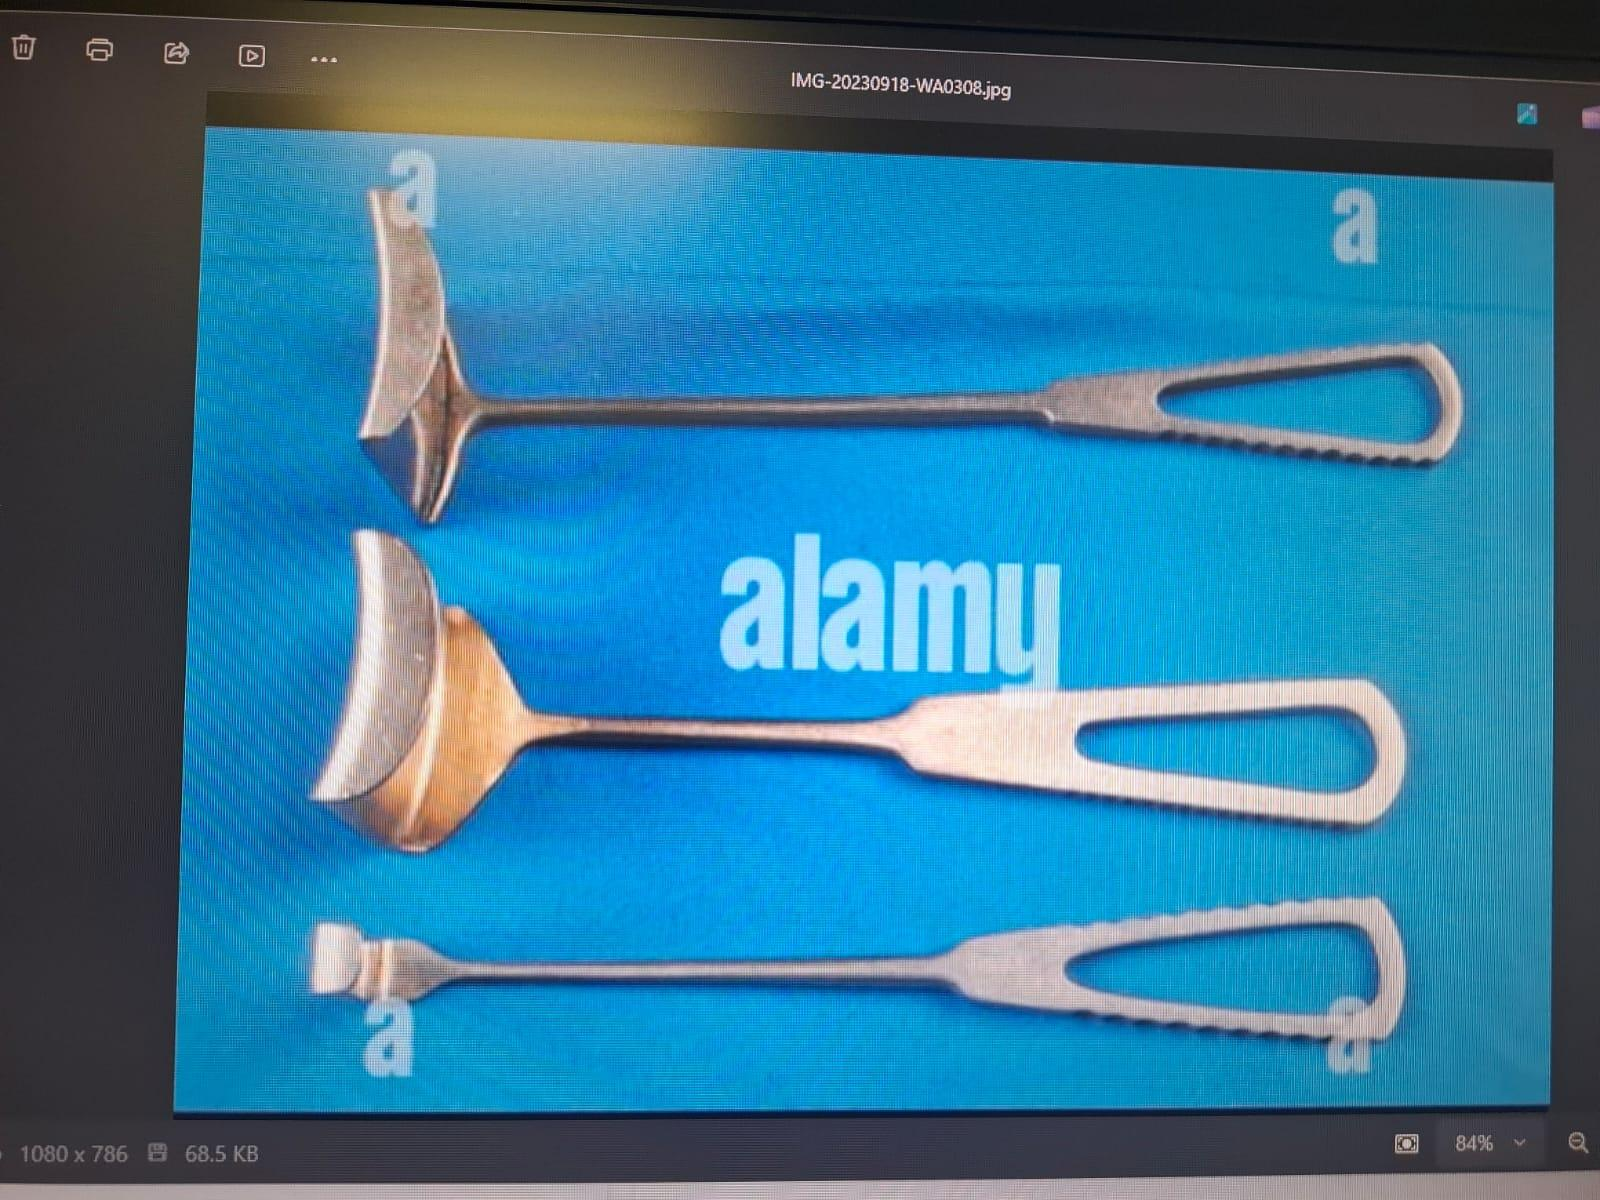Morris Retractor: (299, 504, 1412, 848), (348, 184, 1487, 516)
